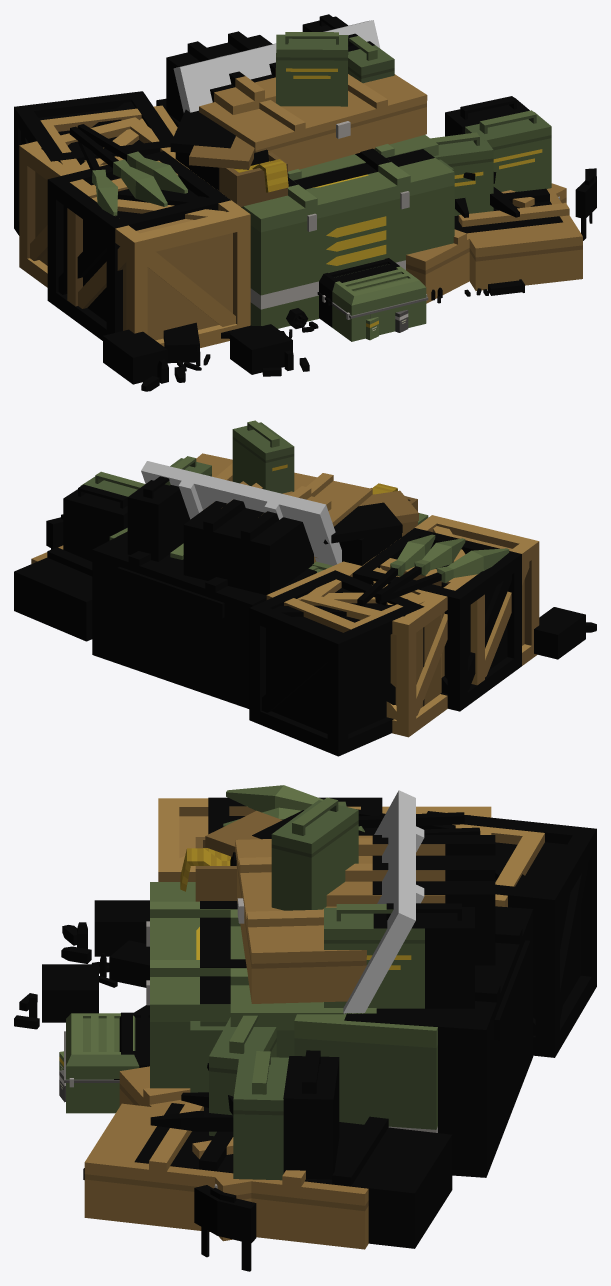
File: AmmoPiles.gltf
The picture shows the model from 3 angles, top to bottom: view 1: azimuth 30°, elevation 25°; view 2: azimuth 150°, elevation 25°; view 3: azimuth 270°, elevation 25°; orthographic projection. The views are drawn at different scales.
Visible parts, largest first — view 1: SA_Prop_AmmoPile_L_01, SA_Prop_AmmoPile_XL_01, SA_Prop_AmmoPile_S_01, SA_Prop_AmmoPile_M_01, SA_Props_AmmoCrateLid; view 2: SA_Prop_AmmoPile_XL_01, SA_Prop_AmmoPile_L_01, SA_Prop_AmmoPile_M_01, SA_Prop_AmmoPile_S_01, SA_Props_AmmoCrateLid; view 3: SA_Prop_AmmoPile_XL_01, SA_Prop_AmmoPile_L_01, SA_Prop_AmmoPile_S_01, SA_Prop_AmmoPile_M_01, SA_Props_AmmoCrateLid, SA_Prop_AmmoCrateOpenable_01, SA_Prop_AmmoCrate_01.
Part boxes in pixels (x1,y1,x2,y2): SA_Prop_AmmoPile_L_01: [40, 35, 582, 347]; SA_Prop_AmmoPile_XL_01: [14, 14, 596, 391]; SA_Prop_AmmoPile_S_01: [199, 32, 438, 180]; SA_Prop_AmmoPile_M_01: [19, 117, 566, 303]; SA_Props_AmmoCrateLid: [173, 20, 380, 112]; SA_Prop_AmmoPile_XL_01: [14, 476, 596, 756]; SA_Prop_AmmoPile_L_01: [31, 456, 539, 685]; SA_Prop_AmmoPile_M_01: [170, 543, 464, 737]; SA_Prop_AmmoPile_S_01: [196, 420, 372, 567]; SA_Props_AmmoCrateLid: [141, 461, 341, 565]; SA_Prop_AmmoPile_XL_01: [14, 785, 596, 1271]; SA_Prop_AmmoPile_L_01: [64, 798, 544, 1249]; SA_Prop_AmmoPile_S_01: [230, 797, 374, 1057]; SA_Prop_AmmoPile_M_01: [119, 806, 491, 1241]; SA_Props_AmmoCrateLid: [343, 790, 424, 1014]; SA_Prop_AmmoCrateOpenable_01: [190, 1021, 294, 1092]; SA_Prop_AmmoCrate_01: [232, 917, 376, 1057].
Size of the model in its own units: 0.0703 by 0.0294 by 0.052.
2 materials, 1 textured.
